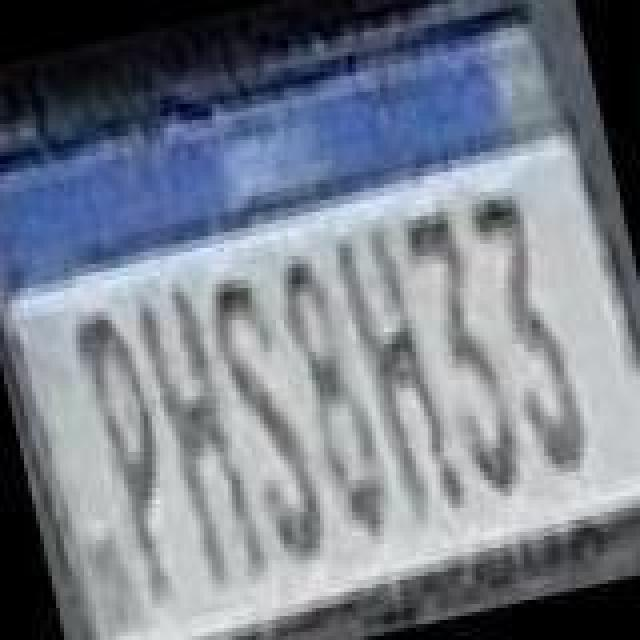3: (466, 184, 606, 488), (396, 198, 532, 506)
8: (270, 244, 402, 540)
H: (130, 272, 270, 592), (332, 212, 468, 524)
P: (64, 304, 192, 608)
S: (200, 266, 336, 574)
